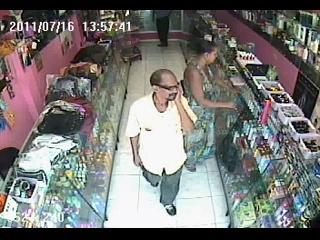Normal: (125, 68, 198, 216), (182, 38, 242, 172), (152, 10, 172, 47)
